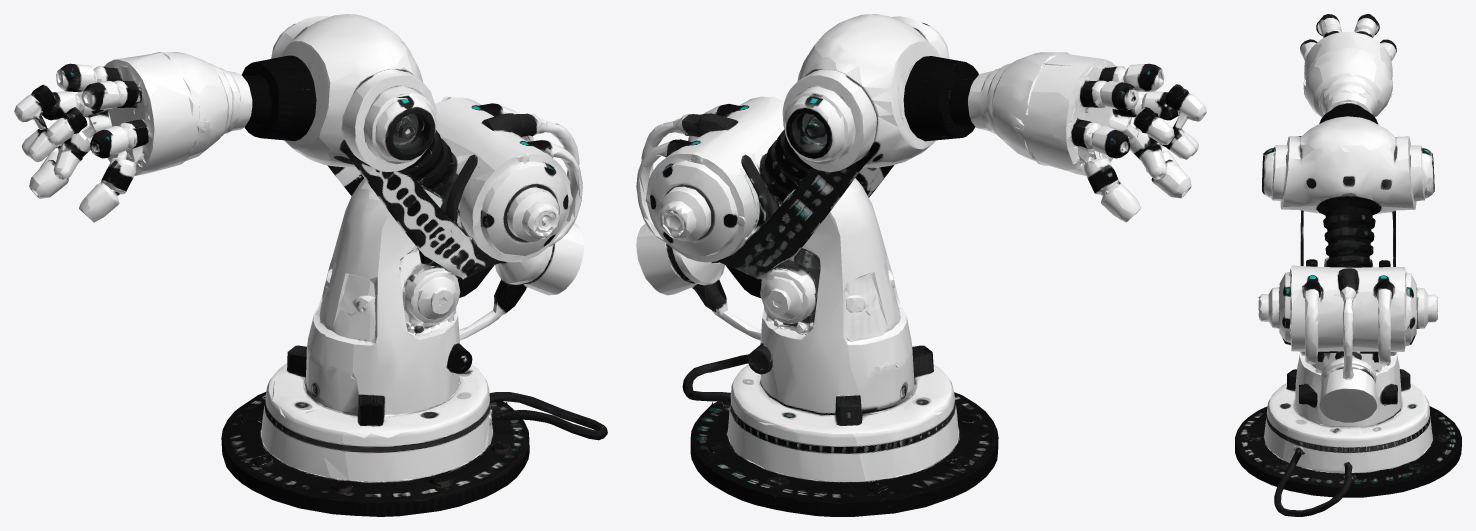
The model's file is Meshy_AI_Articulated_Lab_Arm_source.glb.
The picture shows the model from 3 angles, left to right: view 1: azimuth 30°, elevation 25°; view 2: azimuth 150°, elevation 25°; view 3: azimuth 270°, elevation 25°; orthographic projection. The views are drawn at different scales.
Bounding box in the file's own units: 1.9 × 1.48 × 0.9211.
Materials: 1 (1 with a texture image).
